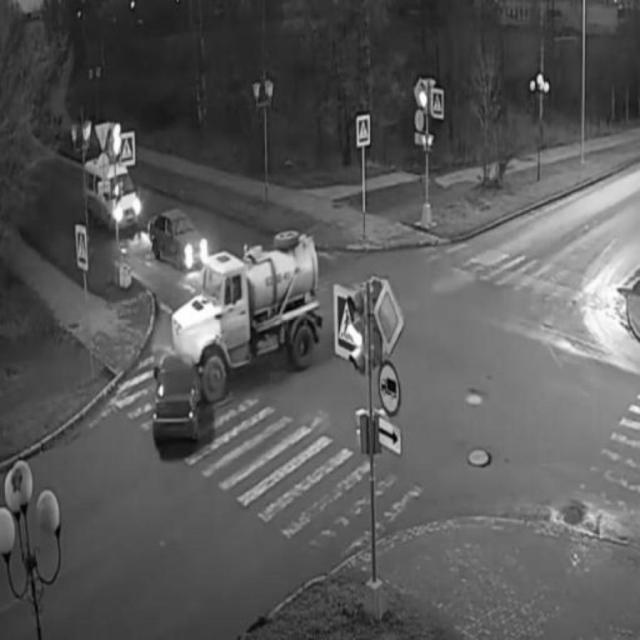accident: (144, 240, 318, 437)
vehicle: (86, 156, 141, 230), (147, 212, 209, 266)
